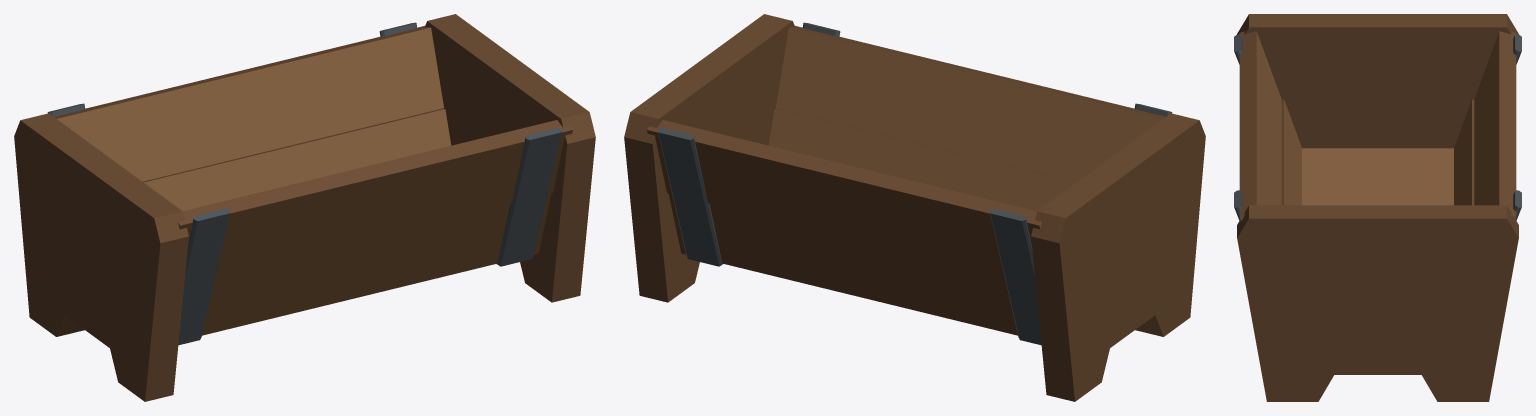
The model's file is mdvl_farm_feed_trough_01.glb.
3 views of the same model, side by side, from view 1: azimuth 30°, elevation 25°; view 2: azimuth 150°, elevation 25°; view 3: azimuth 270°, elevation 25° (orthographic). The views are drawn at different scales.
Visible parts, largest first — view 1: mdvl_farm_feed_trough_01; view 2: mdvl_farm_feed_trough_01; view 3: mdvl_farm_feed_trough_01.
Boxes of the visible parts, x1=… form: mdvl_farm_feed_trough_01: x1=14, y1=14, x2=595, y2=401; mdvl_farm_feed_trough_01: x1=624, y1=14, x2=1205, y2=401; mdvl_farm_feed_trough_01: x1=1234, y1=14, x2=1521, y2=401.
Size of the model in its own units: 1.22 by 0.51 by 0.725.
Materials: 1 (1 with a texture image).
